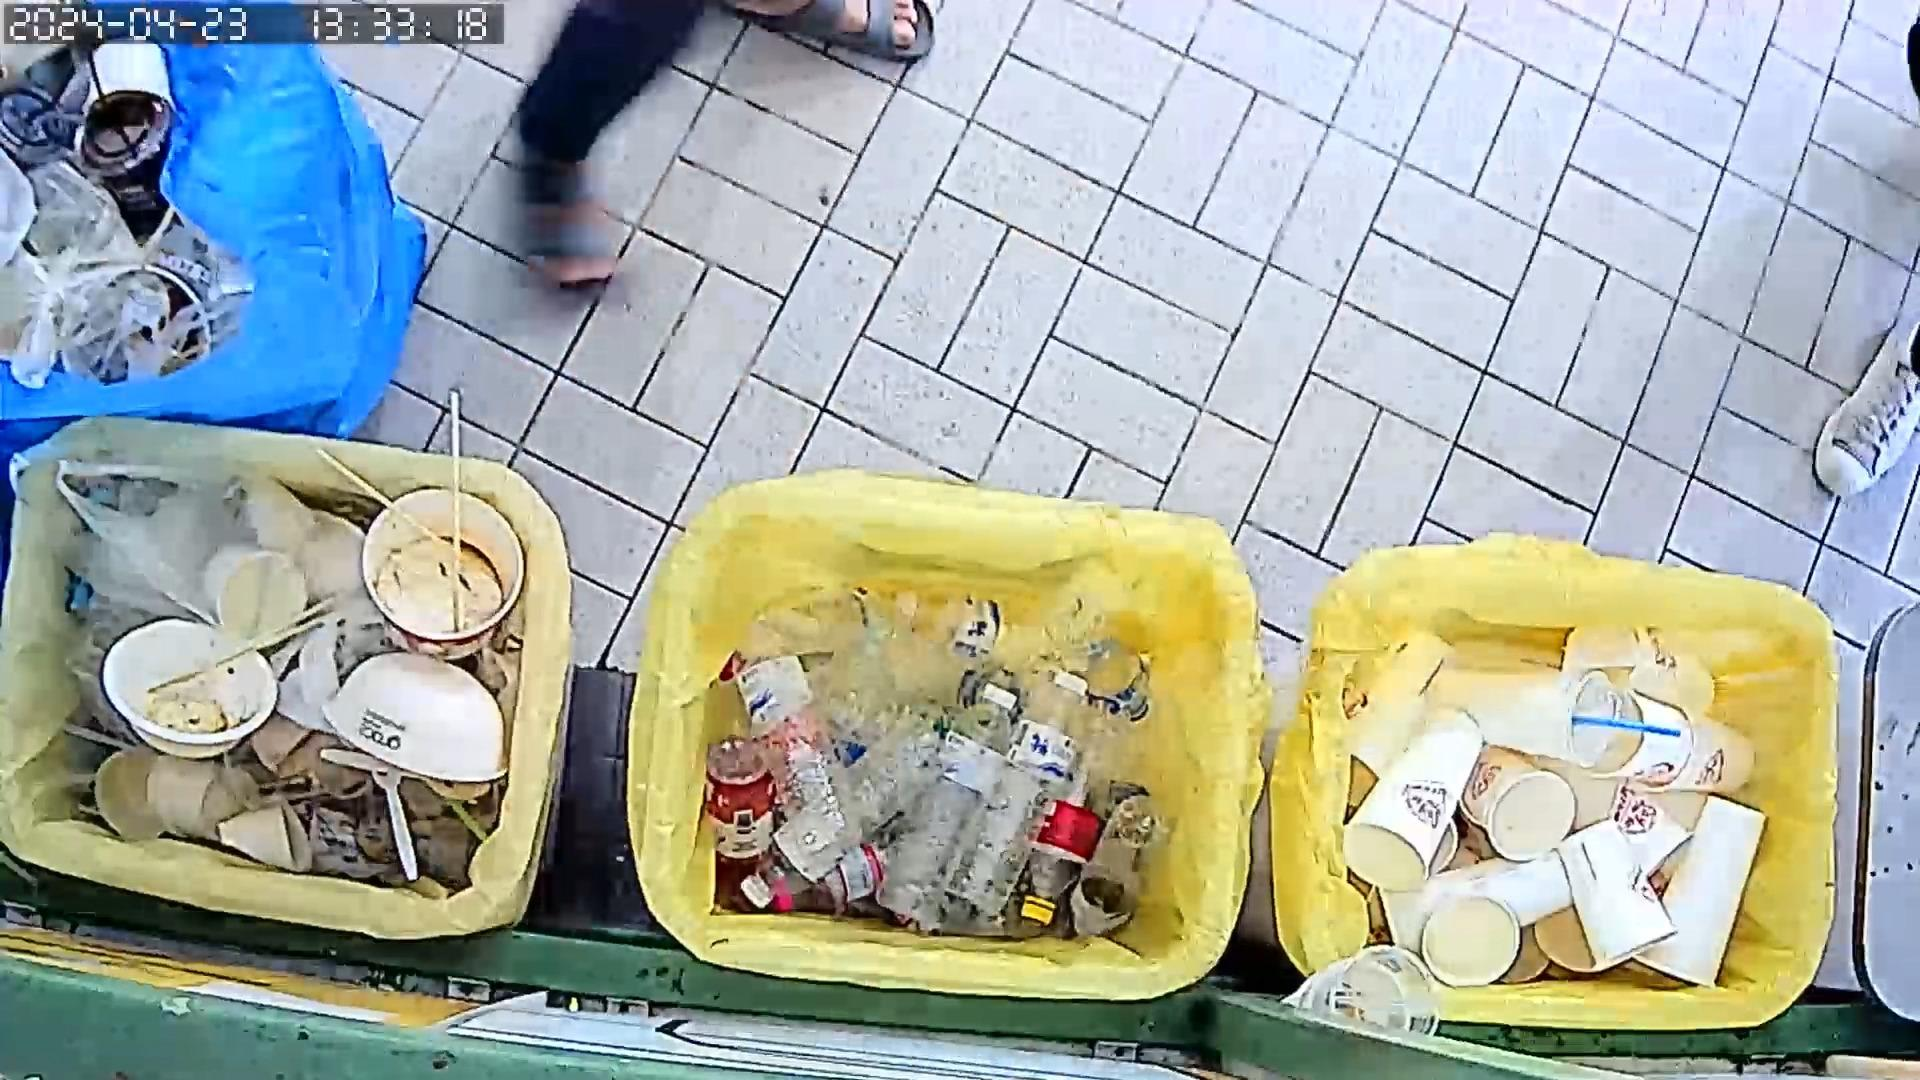can: (700, 737, 777, 873)
filled plastic bag: (25, 421, 311, 647)
food container: (364, 487, 531, 665), (324, 650, 509, 794), (102, 624, 280, 762), (150, 752, 269, 855), (1419, 885, 1527, 990), (87, 744, 177, 849)
plastic bottle: (735, 716, 949, 914), (938, 666, 1096, 922), (876, 683, 1025, 924), (723, 625, 872, 864), (1015, 713, 1118, 930), (1030, 580, 1159, 732), (1065, 795, 1180, 953), (894, 572, 1047, 671)
plastic cup: (293, 798, 421, 890)
plastic cutlery: (373, 541, 510, 603)
sticks: (274, 455, 442, 538), (436, 389, 469, 640)
straw: (1567, 712, 1681, 749)
tissue paper: (218, 794, 315, 881)
zero waste cup: (1618, 787, 1770, 990), (1335, 708, 1481, 903), (1370, 845, 1581, 960), (1337, 624, 1455, 812), (1420, 661, 1618, 767), (1559, 823, 1687, 976), (1569, 612, 1730, 719), (1623, 692, 1762, 800), (1452, 745, 1576, 865), (1577, 692, 1704, 791)
